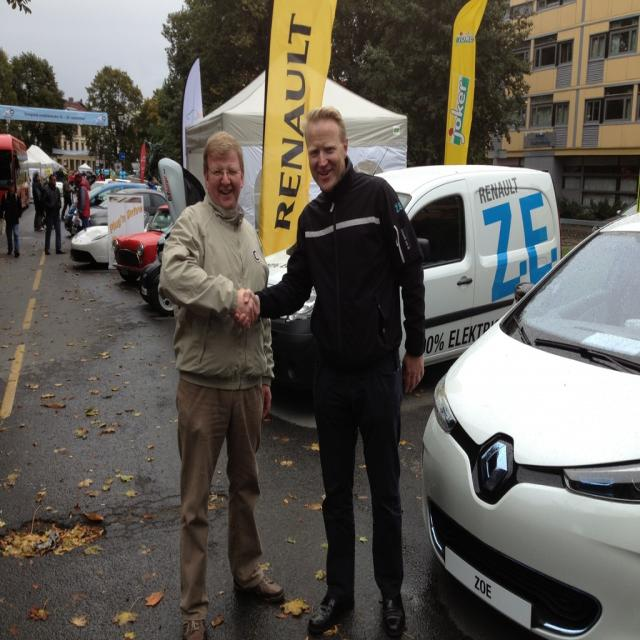other: (420, 216, 640, 640), (260, 162, 561, 388), (108, 204, 176, 281), (66, 209, 154, 267), (69, 186, 169, 234), (139, 227, 178, 315), (62, 178, 130, 209)
